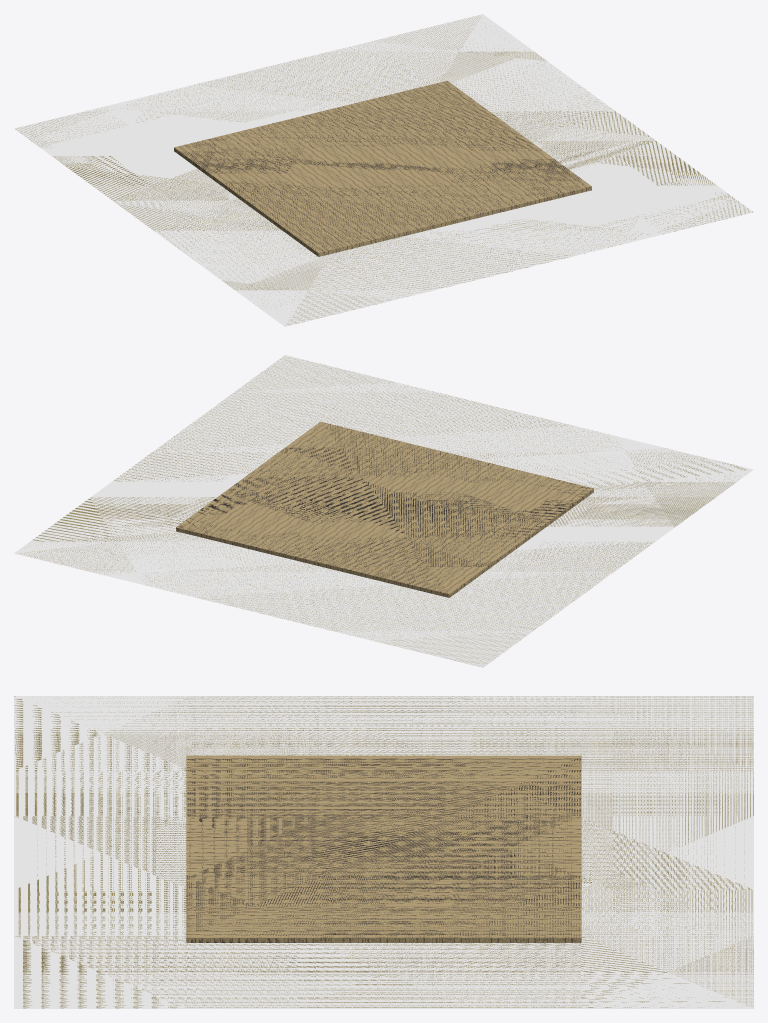
The model's file is floor1.glb.
3 renders of one model, top to bottom at view 1: azimuth 30°, elevation 25°; view 2: azimuth 150°, elevation 25°; view 3: azimuth 270°, elevation 25°, orthographic. The views are drawn at different scales.
Parts seen in each view (by area): view 1: SketchUp, instance_0; view 2: SketchUp, instance_0; view 3: SketchUp, instance_0.
Part boxes in pixels (<box>): SketchUp: <box>14,14,753,326</box>; instance_0: <box>174,80,591,256</box>; SketchUp: <box>14,355,753,667</box>; instance_0: <box>176,421,593,597</box>; SketchUp: <box>14,696,753,1008</box>; instance_0: <box>186,755,581,942</box>.
Bounding box in the file's own units: 4.57 × 0.0349 × 4.57.
Materials: 4 (3 with a texture image).
